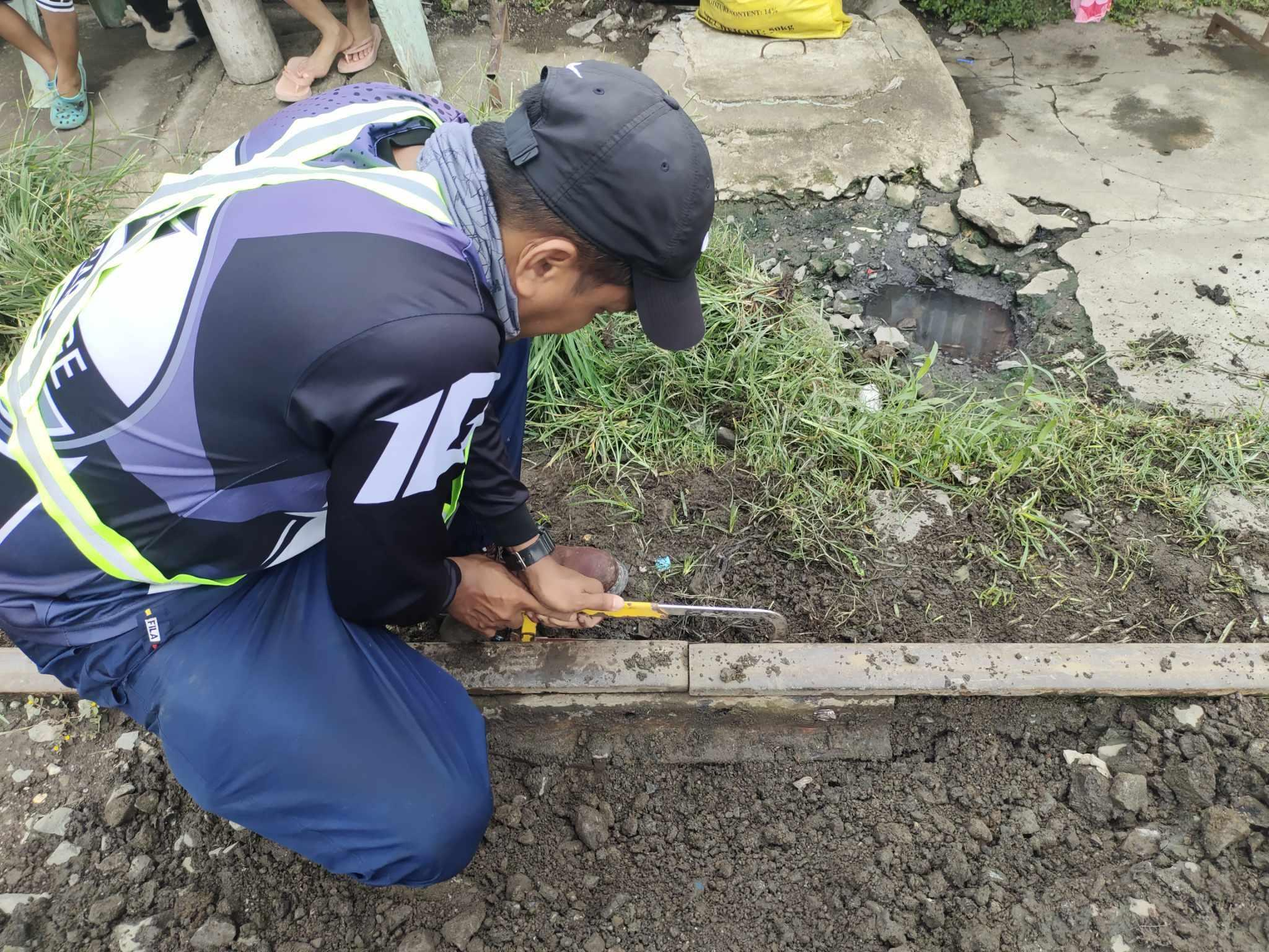railway-gap: (643, 621, 738, 718)
